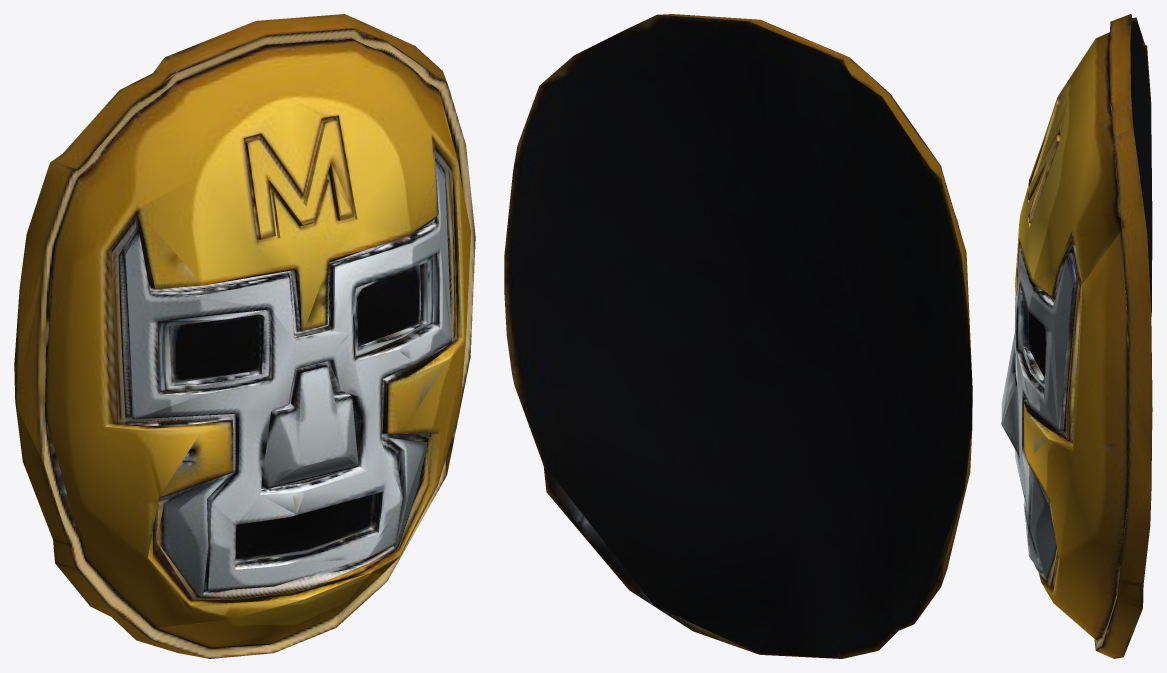
Rendered from mascara_maxkara.glb.
The picture shows the model from 3 angles, left to right: view 1: azimuth 30°, elevation 25°; view 2: azimuth 150°, elevation 25°; view 3: azimuth 270°, elevation 25°; orthographic projection. The views are drawn at different scales.
Visible parts, largest first — view 1: maxkara_low; view 2: maxkara_low; view 3: maxkara_low.
Part boxes in pixels (box(x1,y1,x2,y2)): maxkara_low: box(14, 14, 475, 658); maxkara_low: box(504, 14, 972, 658); maxkara_low: box(1001, 14, 1152, 658).
Size of the model in its own units: 0.9058 by 1.18 by 0.272.
Materials: 1 (1 with a texture image).
